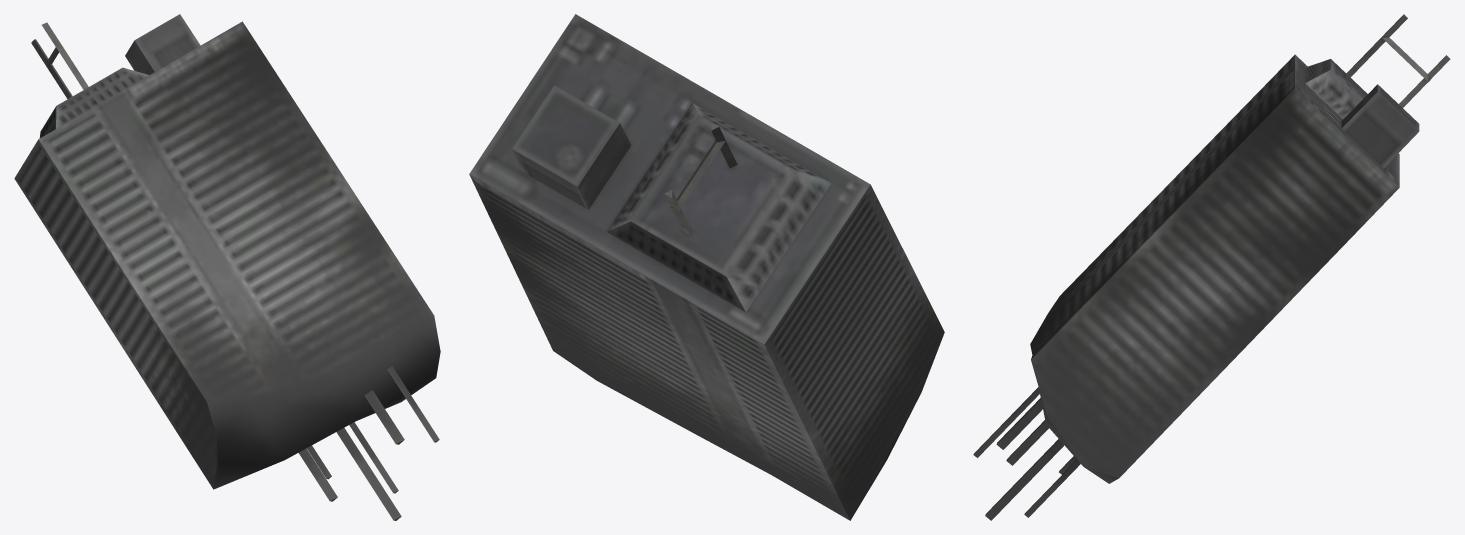
The model's file is skyBuildingAAC_pos_grp (19).fbx.
3 views of the same model, side by side, from view 1: azimuth 30°, elevation 25°; view 2: azimuth 150°, elevation 25°; view 3: azimuth 270°, elevation 25° (orthographic). The views are drawn at different scales.
Parts seen in each view (by area): view 1: skyBuildingAAC_geo; view 2: skyBuildingAAC_geo; view 3: skyBuildingAAC_geo.
Boxes of the visible parts, <box> form: skyBuildingAAC_geo: <box>14,14,440,520</box>; skyBuildingAAC_geo: <box>469,14,944,520</box>; skyBuildingAAC_geo: <box>973,14,1450,520</box>.
Bounding box in the file's own units: 5.89 × 7.43 × 7.53.
